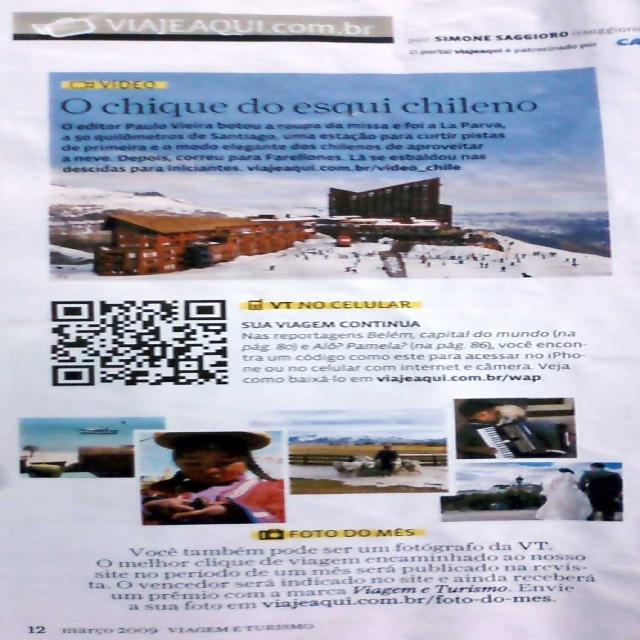qr-code: (51, 300, 228, 386)
